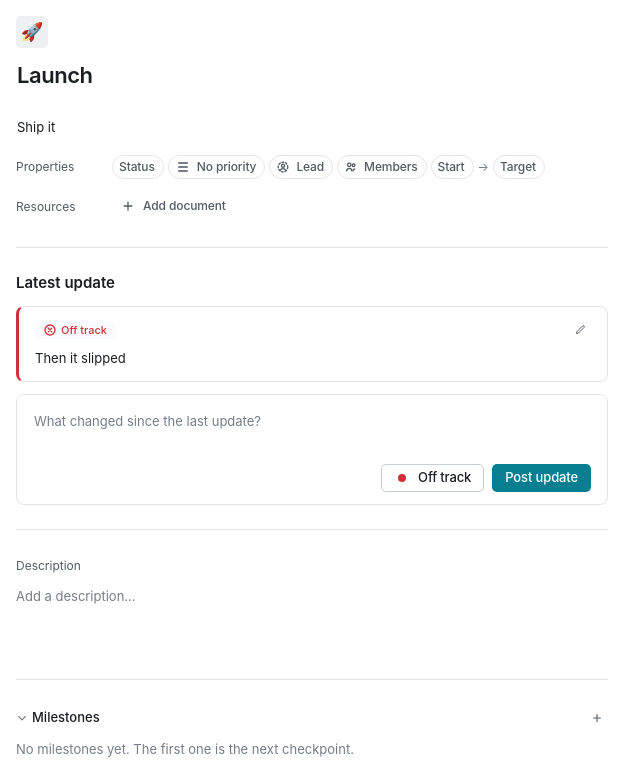
Test: ProjectOverview as a document › keeps the composer beneath the card, health chosen from a menu
Expected: the text box labelled "update" is shown, [33,407,591,456]
Expected: the button "Post update" is shown, [492,464,591,492]
Click the button with aria-label "Health": (433, 478) [381,464,484,492]
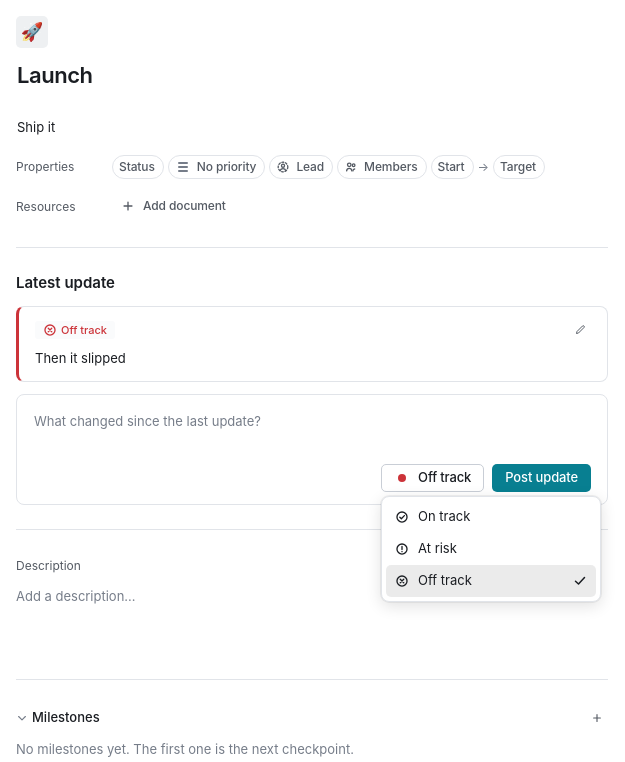
Click the menu item "At risk": (426, 548) [395,540,457,556]
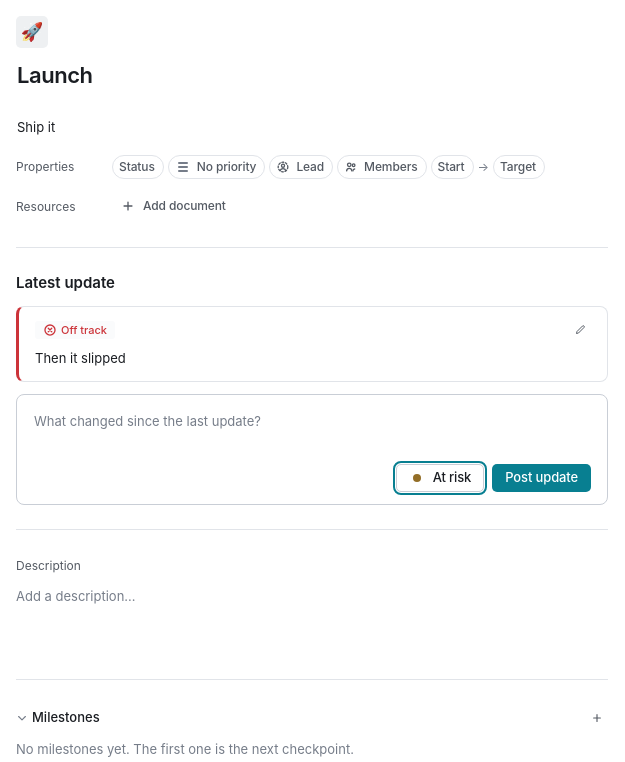
Result: the button with aria-label "Health" reads "At risk" at [396,464,484,492]
